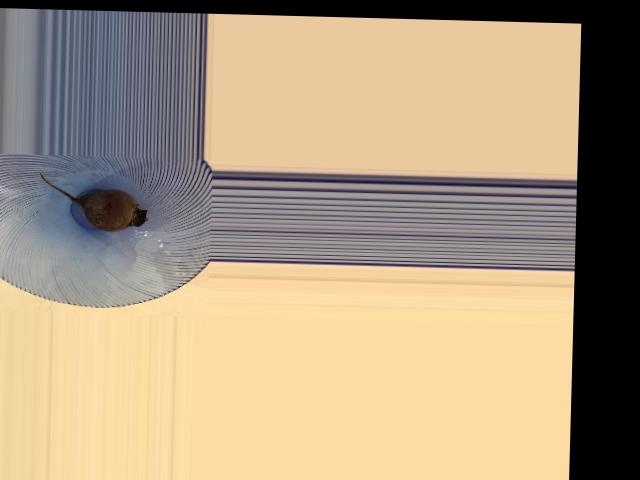beet: (39, 173, 149, 231)
